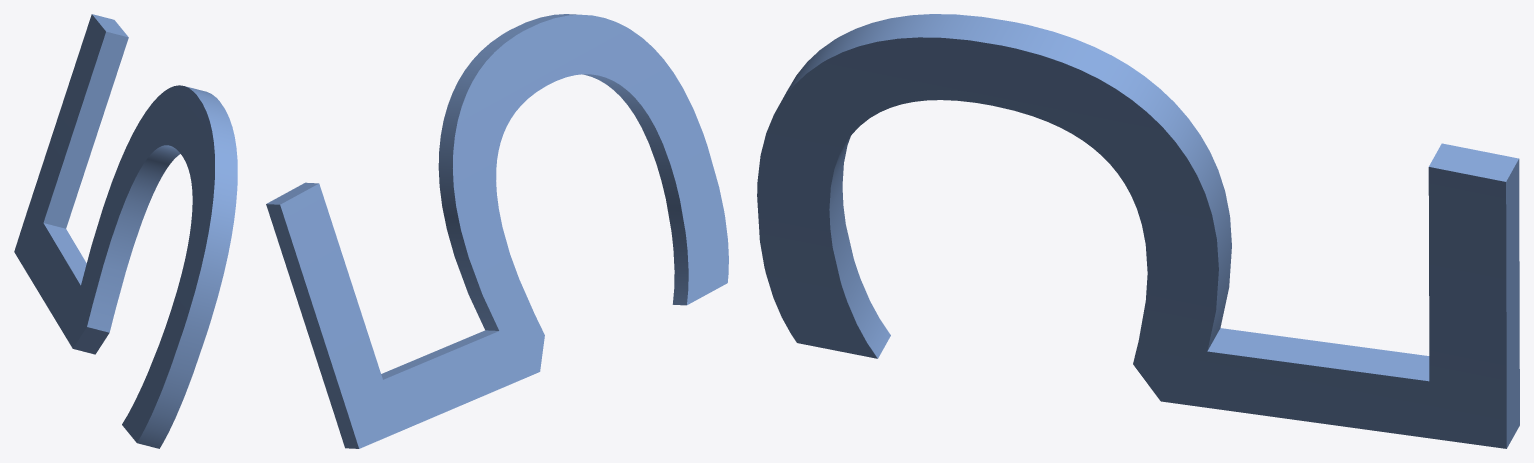
File: New_Number_5.gltf
3 renders of one model, left to right at view 1: azimuth 30°, elevation 25°; view 2: azimuth 150°, elevation 25°; view 3: azimuth 270°, elevation 25°, orthographic. The views are drawn at different scales.
Visible parts, largest first — view 1: Part 635; view 2: Part 635; view 3: Part 635.
Part boxes in pixels (box(x1,y1,x2,y2)): Part 635: box(14, 14, 237, 448); Part 635: box(266, 14, 728, 448); Part 635: box(757, 14, 1519, 448).
Size of the model in its own units: 0.00262 by 0.00336 by 0.00549.
